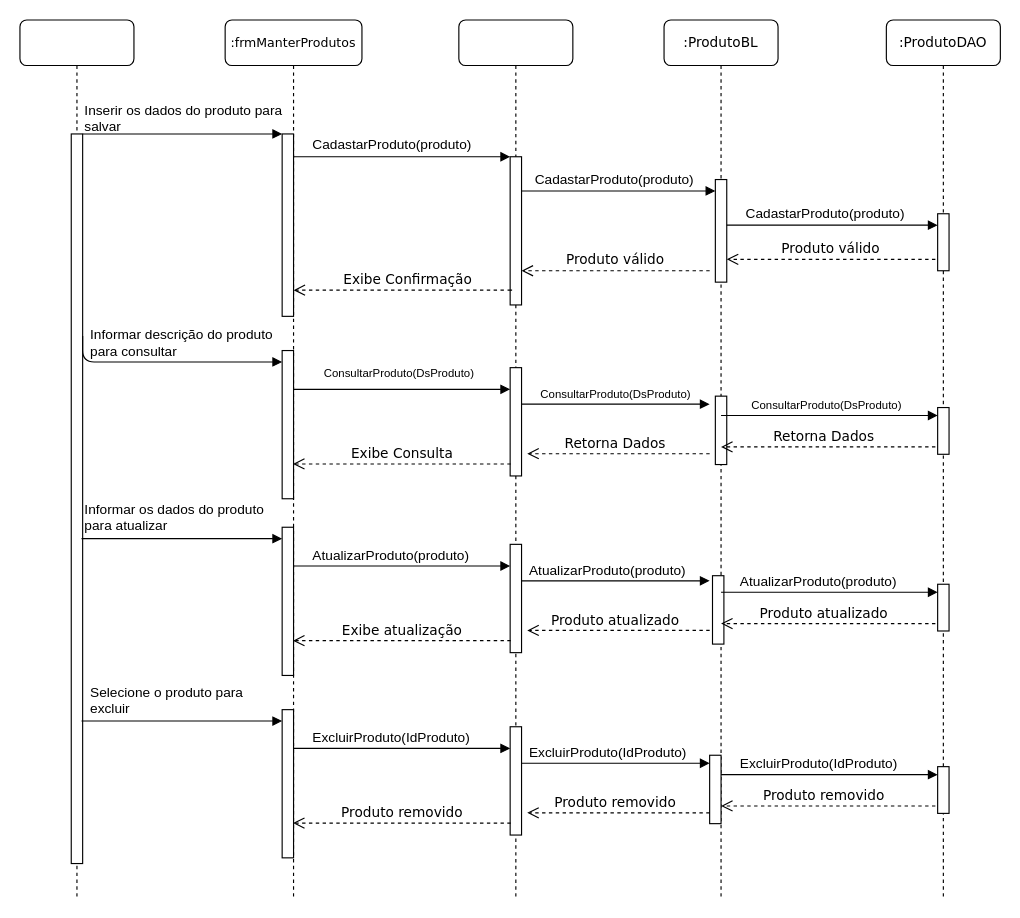
Some shapes in this 1020 by 918 pixel diagram are drawn without their labels. The shapes that lost their labels are listed below. From the top down, each one's box as (x1, y1, x2, y2) in pixels, then its label:
(19, 19, 134, 898): Usuário
(458, 19, 573, 898): :Controller
